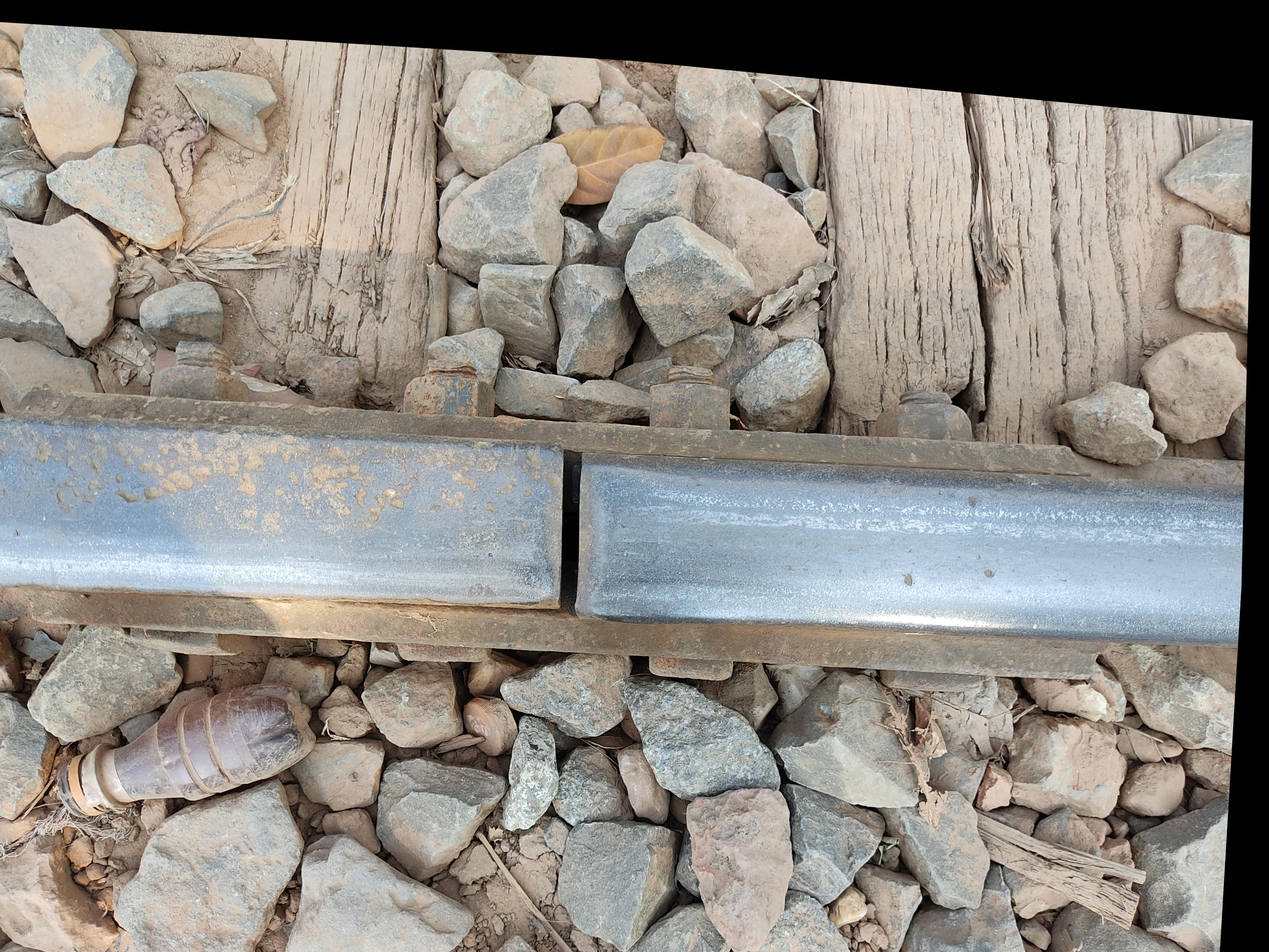person: (429, 420, 689, 671)
